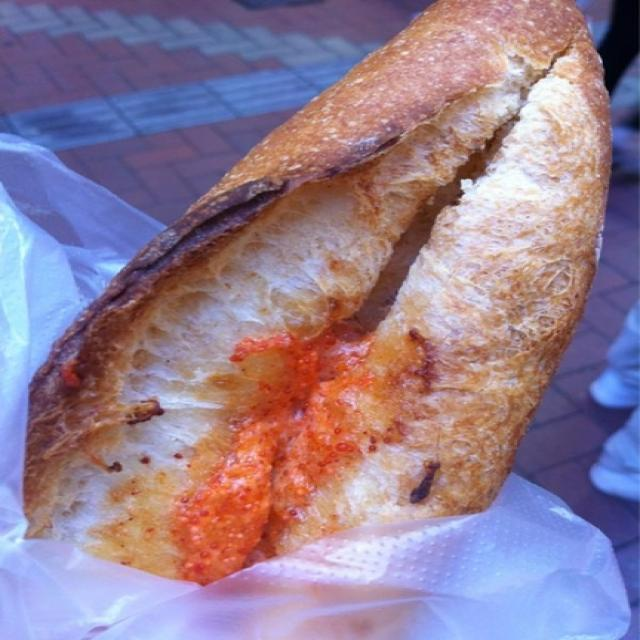Bread: (43, 0, 572, 512)
